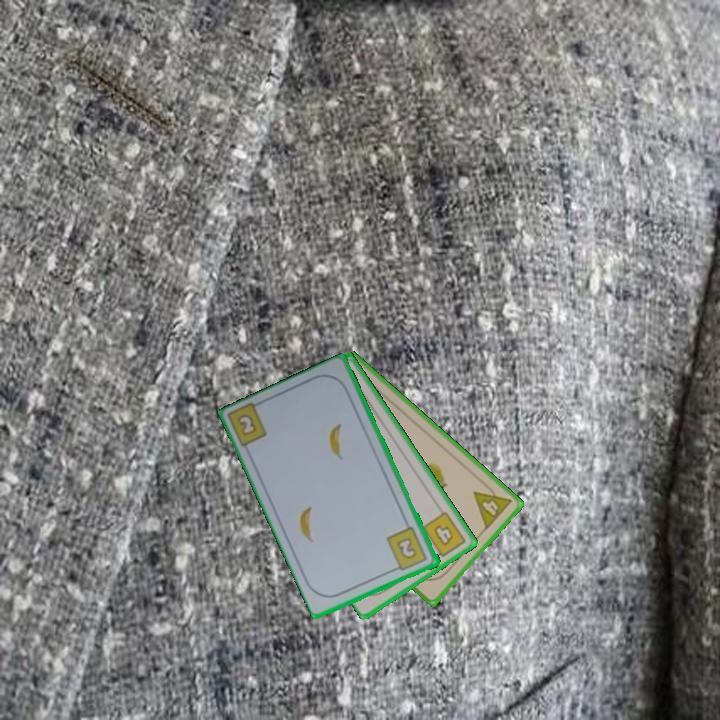2b: (383, 523, 430, 574), (234, 411, 260, 439)
4b: (419, 508, 469, 562)
4p: (470, 478, 515, 533)
